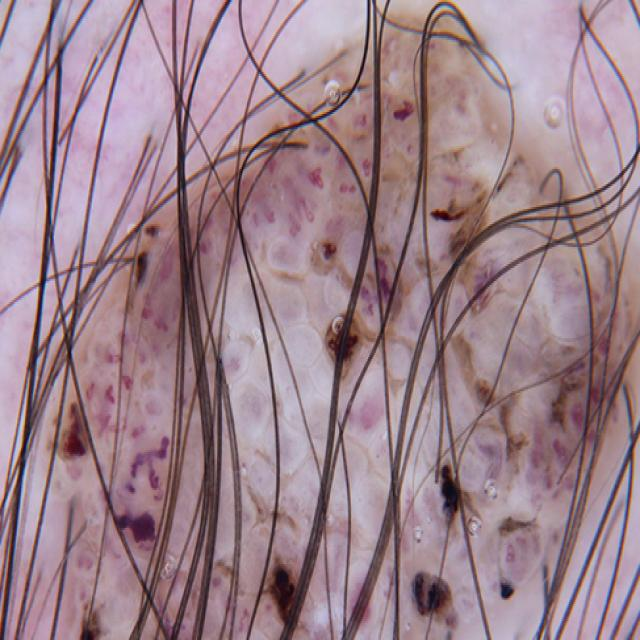Keratosis: (280, 38, 631, 598), (63, 228, 346, 640)
